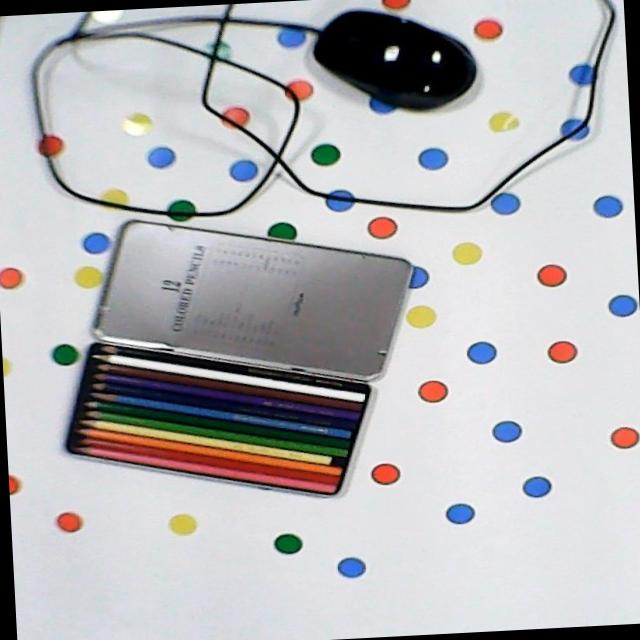color: (52, 332, 384, 505)
mouse: (305, 5, 482, 117)
